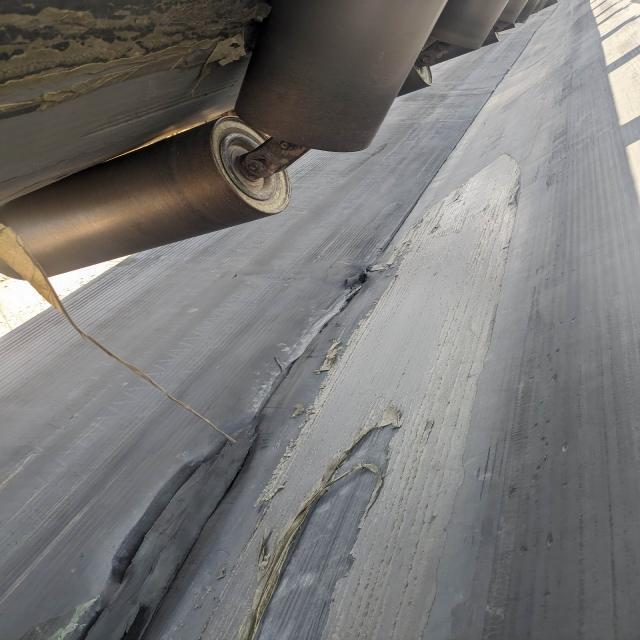Tear: (76, 259, 408, 640), (241, 410, 408, 640)
